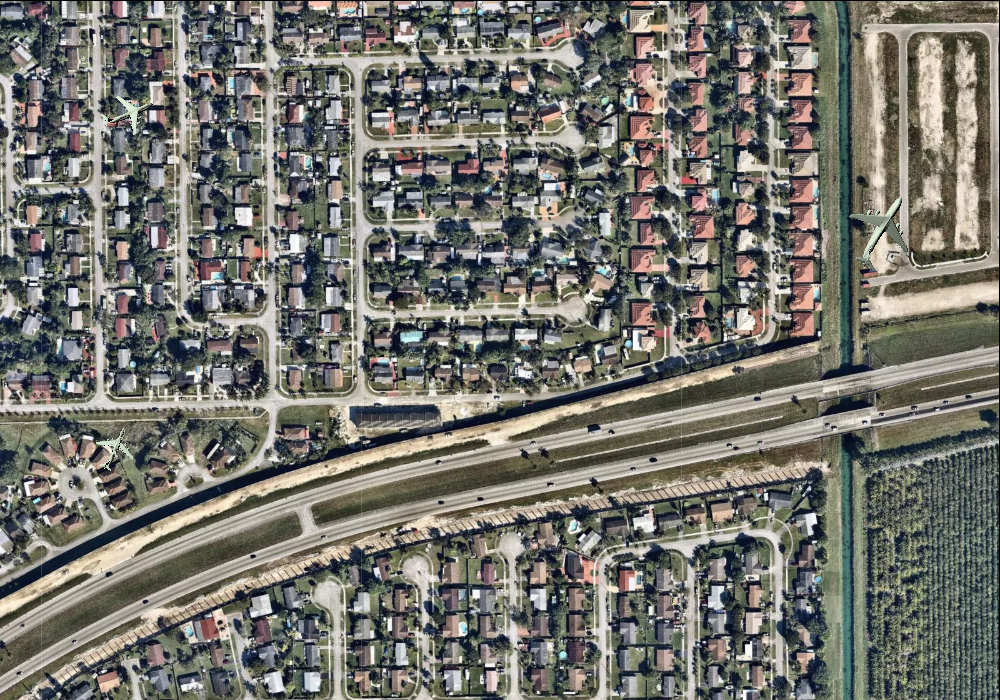plane: (829, 177, 935, 285), (93, 79, 161, 145), (84, 418, 143, 478)
